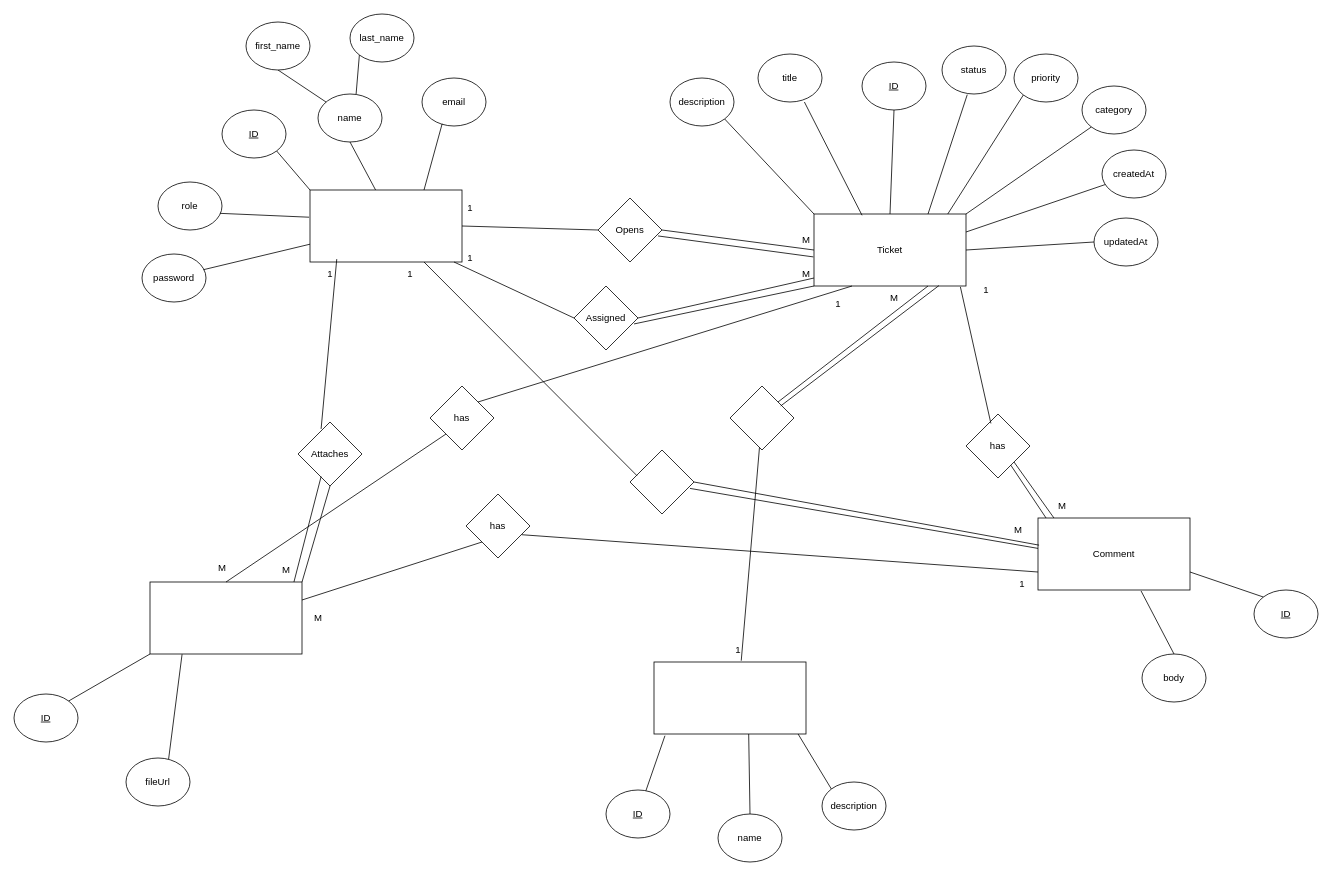
The diagram is 1332 pixels wide and 876 high, and some of its shapes have lost their labels. Each missing label, with the centre of its shape:
"Attachment" goes at point (225, 617).
"belongs" goes at point (761, 417).
"Department" goes at point (729, 697).
"User" goes at point (385, 225).
"Writes" goes at point (661, 481).
